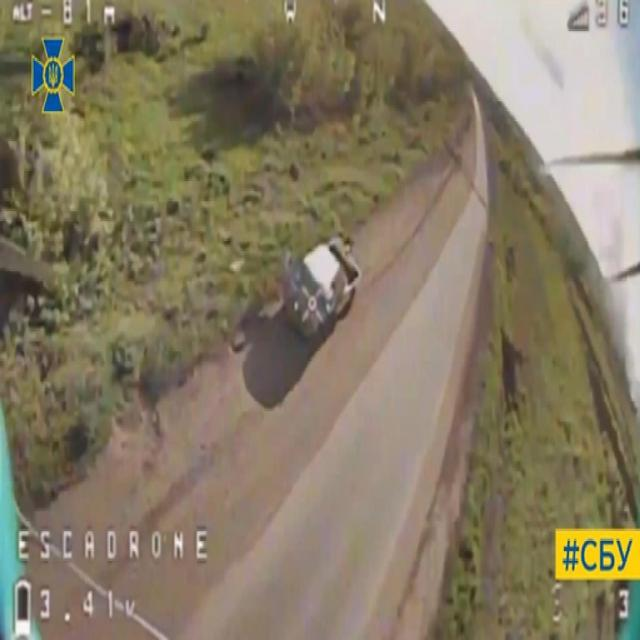TRUCK: (281, 222, 364, 344)
